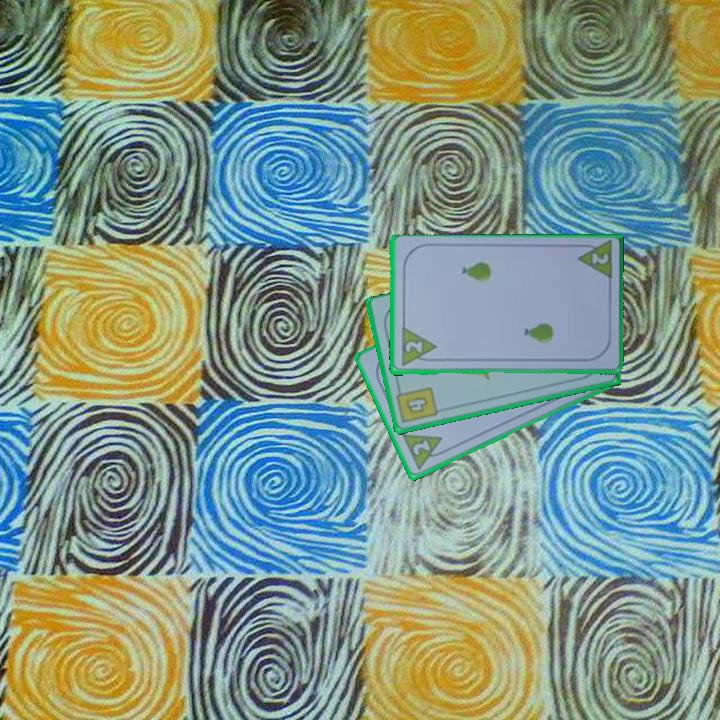2p: (573, 239, 615, 283), (398, 326, 438, 369), (409, 437, 433, 459)
4b: (393, 384, 441, 426)
